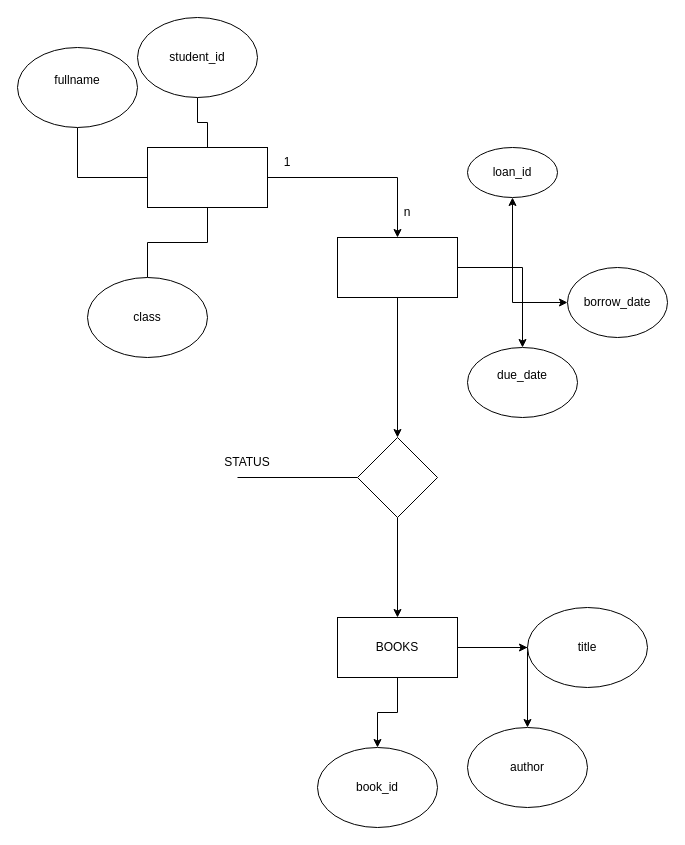
Some shapes in this 685 by 845 pixel diagram are drawn without their labels. The box of each missing label's shape, as (x1, y1, x2, y2) in pixels:
CONTAINS: (356, 436, 438, 518)
LOAN_CARDS: (336, 236, 458, 298)
STUDENTS: (146, 146, 268, 208)
